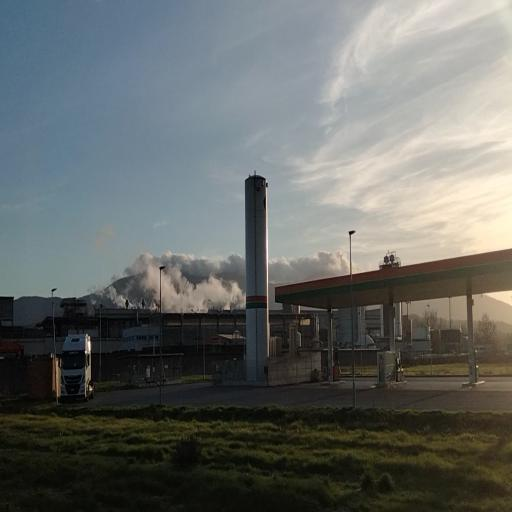leakage: (134, 260, 248, 314), (91, 283, 150, 311)
